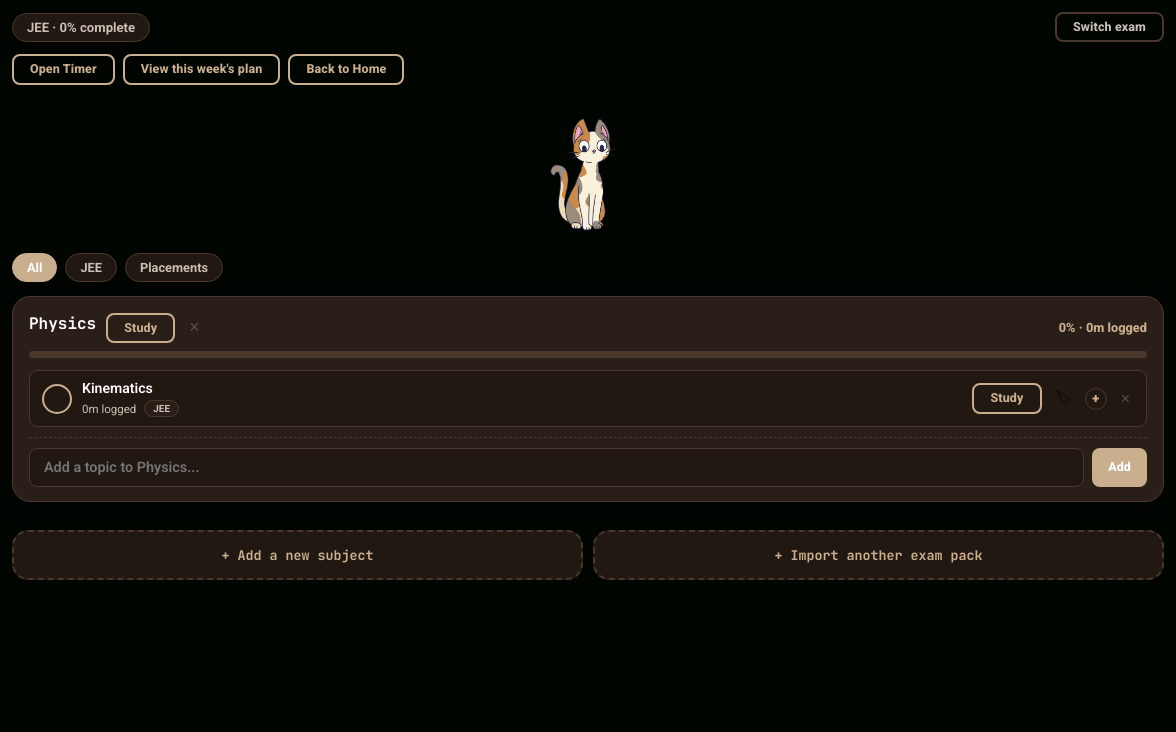
Test: PortionTracker — deleting a section › cancels without deleting when Cancel is clicked
Expected: the text "Kinematics" is shown, x1=82 y1=380 x2=153 y2=396
Step 1. Click the button named "Delete Physics" → (194, 328), box x1=185 y1=315 x2=204 y2=341
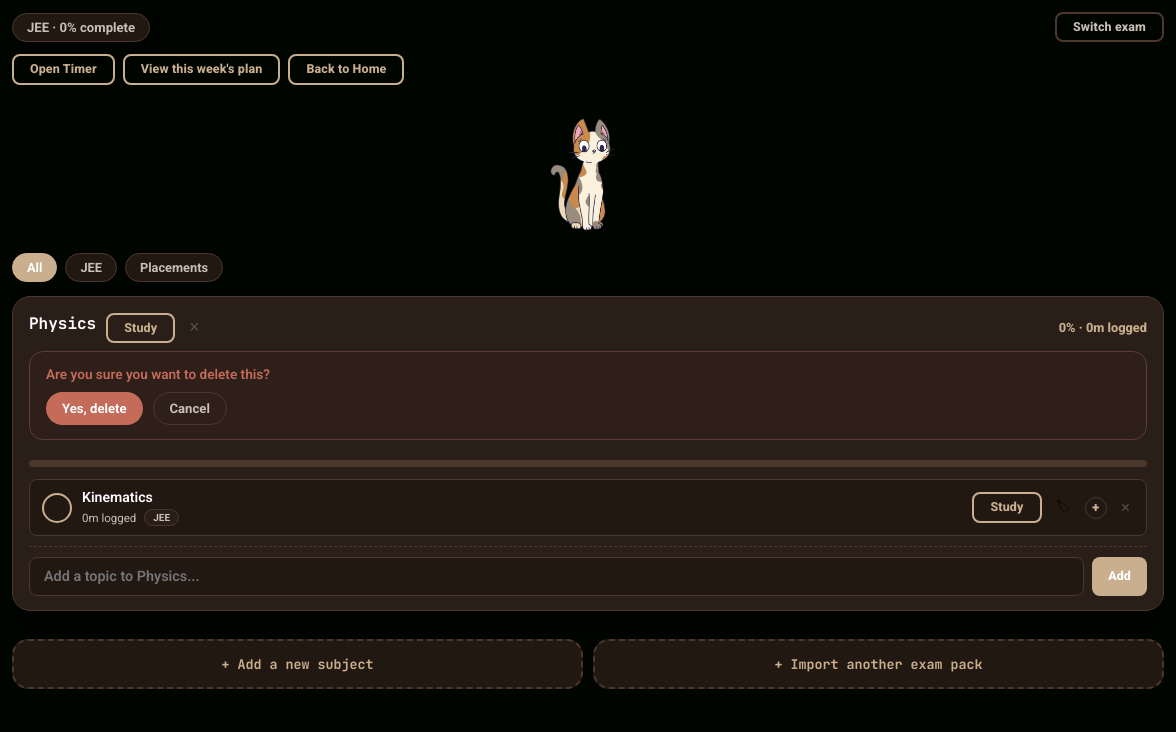
Step 2. Click the button "Cancel" → (190, 408), box x1=152 y1=392 x2=227 y2=425
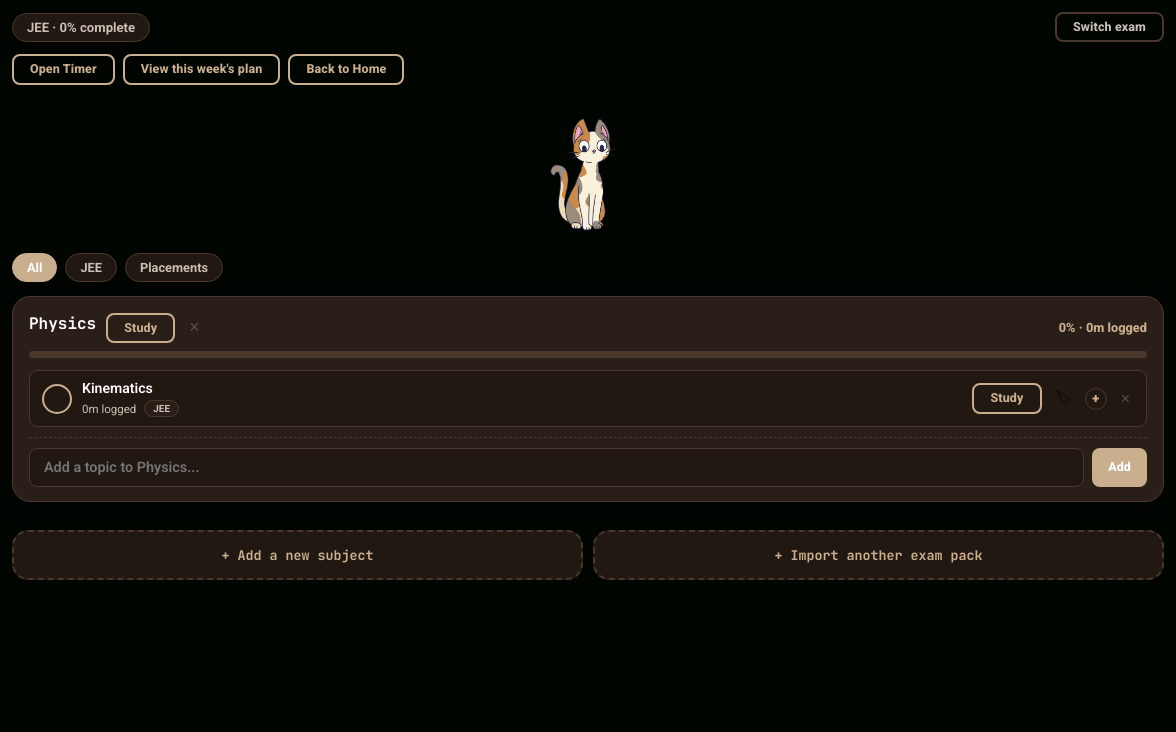
Expected: the heading "Physics" is shown, x1=29 y1=313 x2=96 y2=334
Now the text "Are you sure you want to delete this?" is gone
